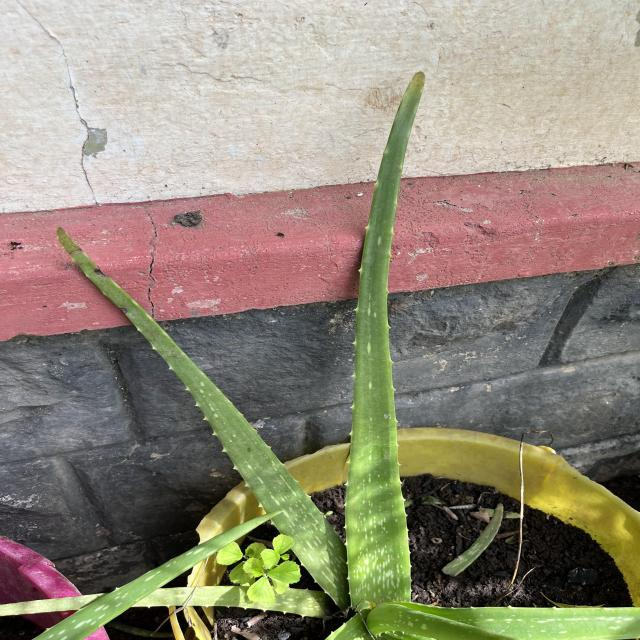Aloe vera: (339, 67, 436, 611)
